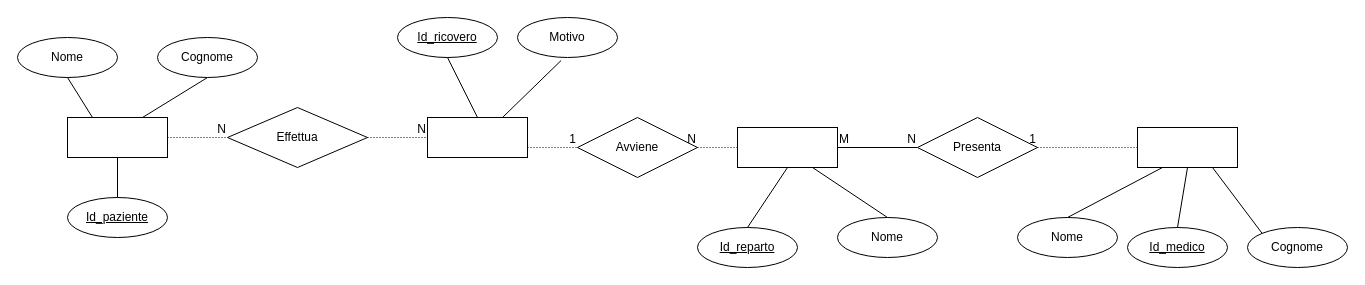
Image size: 1365x285. Some labels were removed from this diagram. Each missing label, with the box of its shape:
Medico: (1136, 126, 1238, 168)
Paziente: (66, 116, 168, 158)
Reparto: (736, 126, 838, 168)
Ricovero: (426, 116, 528, 158)
